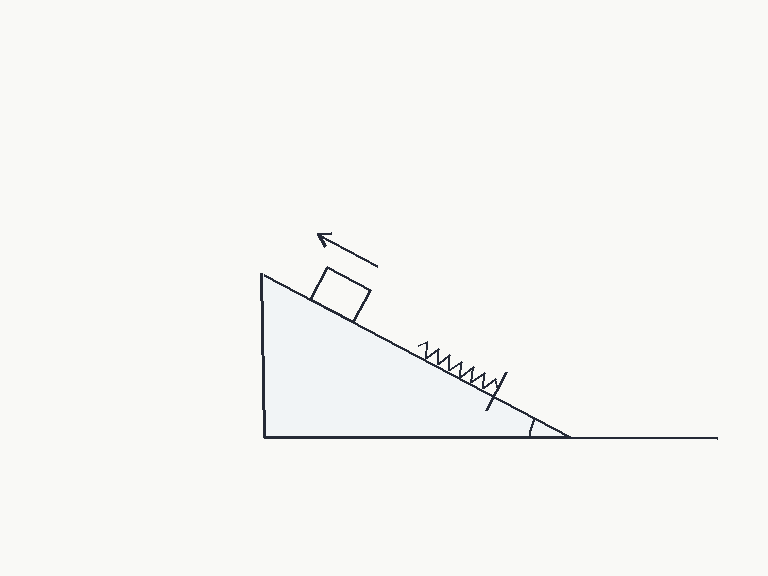block: (308, 265, 372, 323)
ramp: (262, 272, 572, 439)
spring: (416, 341, 500, 390)
